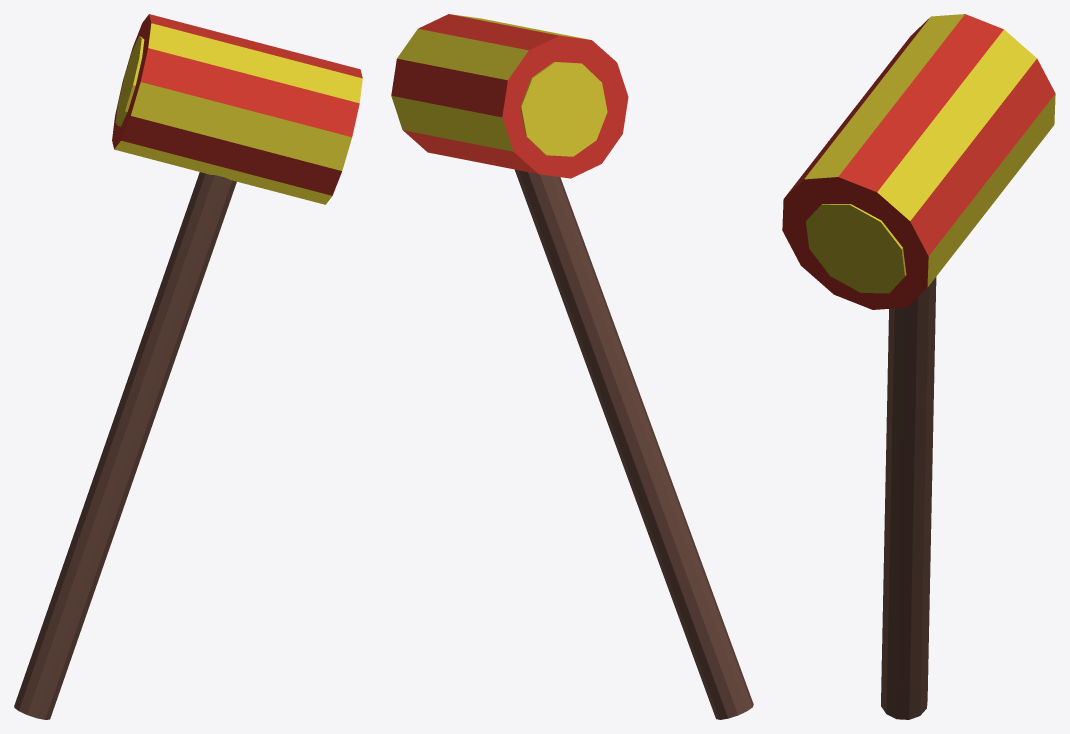
The picture shows the model from 3 angles, left to right: view 1: azimuth 30°, elevation 25°; view 2: azimuth 150°, elevation 25°; view 3: azimuth 270°, elevation 25°; orthographic projection. The views are drawn at different scales.
Visible parts, largest first — view 1: node_MeshObject128316800-PolyPaper12; view 2: node_MeshObject128316800-PolyPaper12; view 3: node_MeshObject128316800-PolyPaper12.
Part boxes in pixels (x1=…): node_MeshObject128316800-PolyPaper12: x1=14, y1=14, x2=362, y2=719; node_MeshObject128316800-PolyPaper12: x1=391, y1=14, x2=753, y2=719; node_MeshObject128316800-PolyPaper12: x1=782, y1=14, x2=1055, y2=719.
Size of the model in its own units: 0.6994 by 1.27 by 0.4004.
